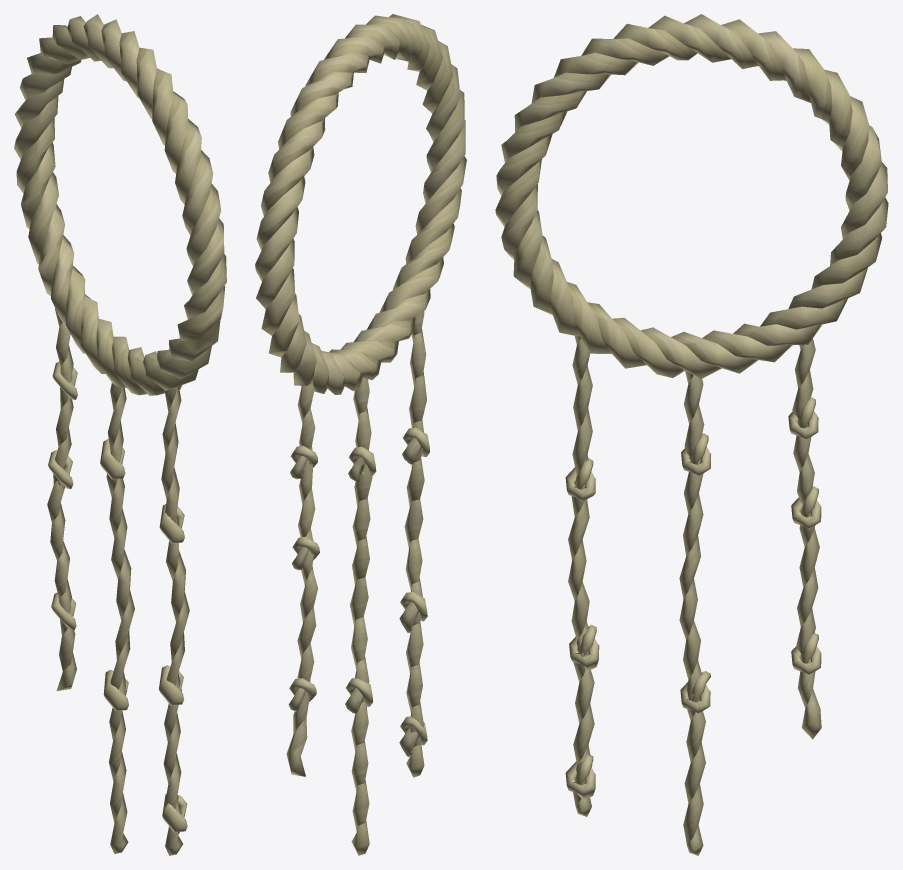
File: SM_ENV_KNFRST_StrawRope_C.FBX
The picture shows the model from 3 angles, left to right: view 1: azimuth 30°, elevation 25°; view 2: azimuth 150°, elevation 25°; view 3: azimuth 270°, elevation 25°; orthographic projection.
Visible parts, largest first — view 1: SM_ENV_KNFRST_StrawRope_C; view 2: SM_ENV_KNFRST_StrawRope_C; view 3: SM_ENV_KNFRST_StrawRope_C.
Boxes of the visible parts, x1,y1,x2,y2 form: SM_ENV_KNFRST_StrawRope_C: (14,14,226,855); SM_ENV_KNFRST_StrawRope_C: (255,14,466,855); SM_ENV_KNFRST_StrawRope_C: (495,14,888,855).
Bounding box in the file's own units: 79.43 × 1622 × 689.
